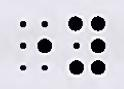dot_5: (19, 21, 52, 71)
two_cell_alphabet_ayaw: (69, 16, 106, 76)
